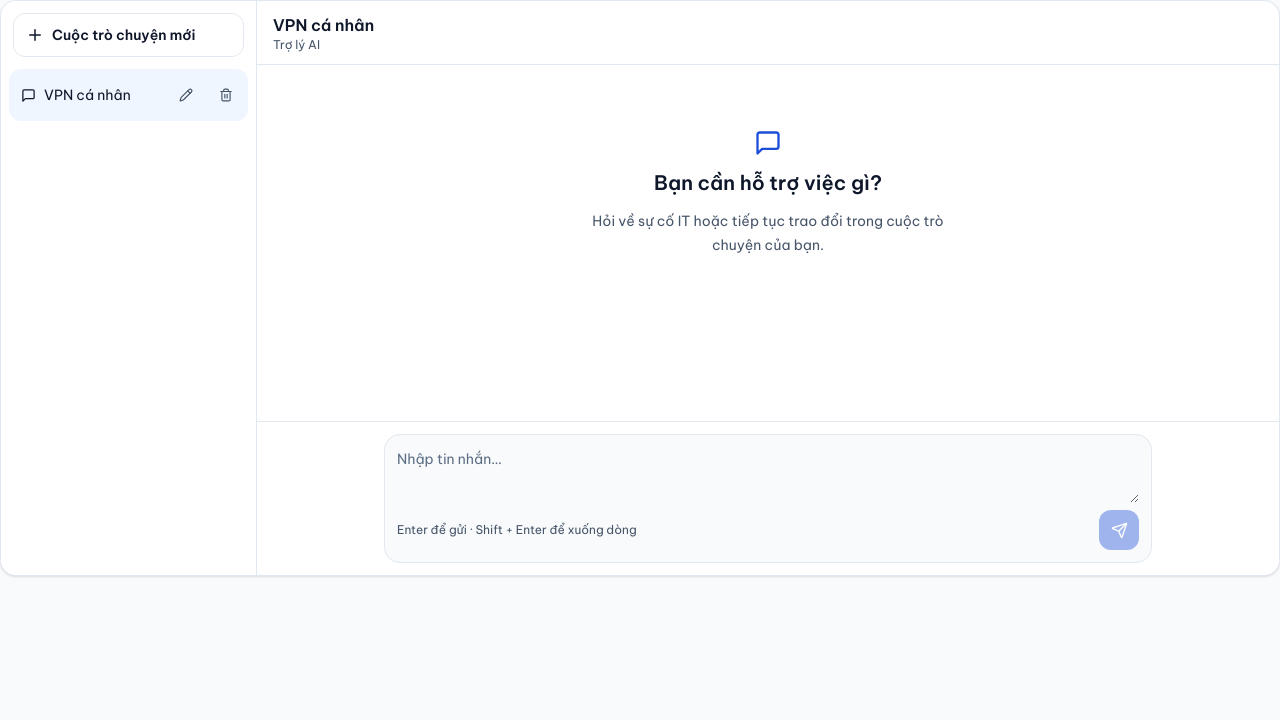
Test: retains explicit human approval for approve=true in a saved conversation
Expected: the button "VPN cá nhân" is shown, [13,73,164,117]
Type "VPN không kết nối." into the text box named "Câu hỏi hỗ trợ IT". click: [768, 475]
box: [397,447,1139,503]
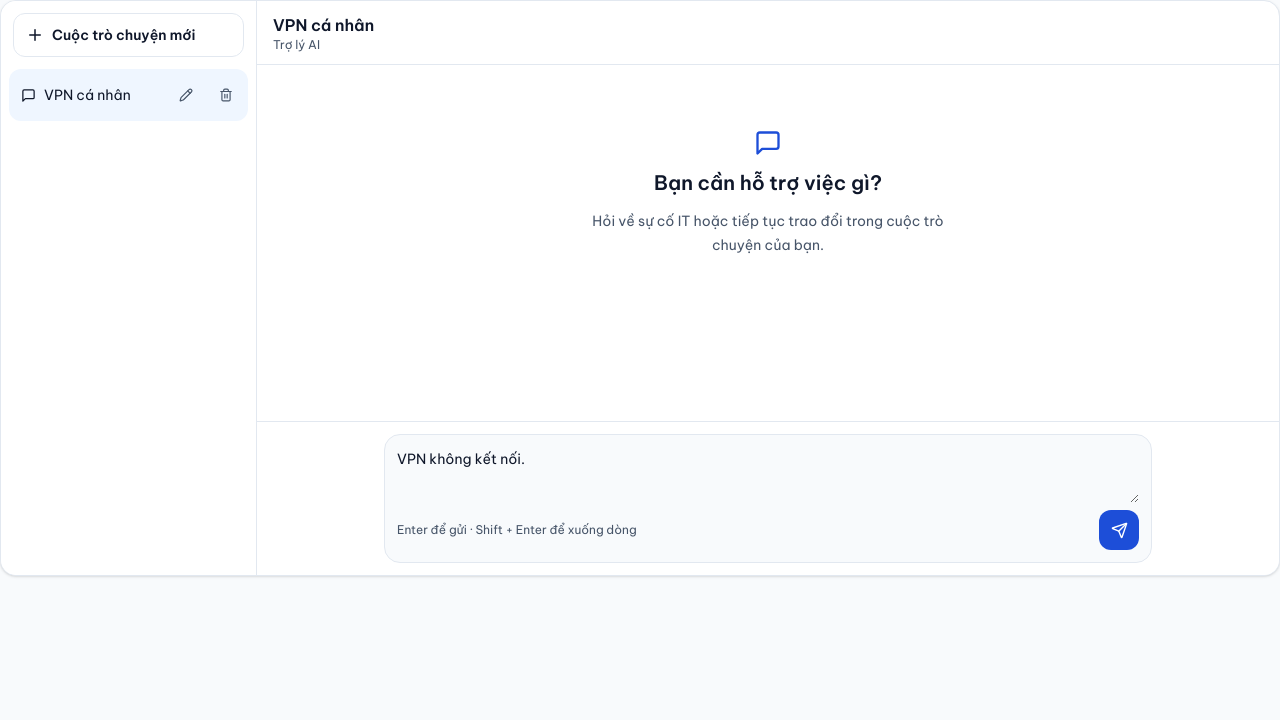
Expected: the button named "Gửi câu hỏi" is enabled
Click the button named "Gửi câu hỏi". click: [1119, 530]
box: [1099,510,1139,550]
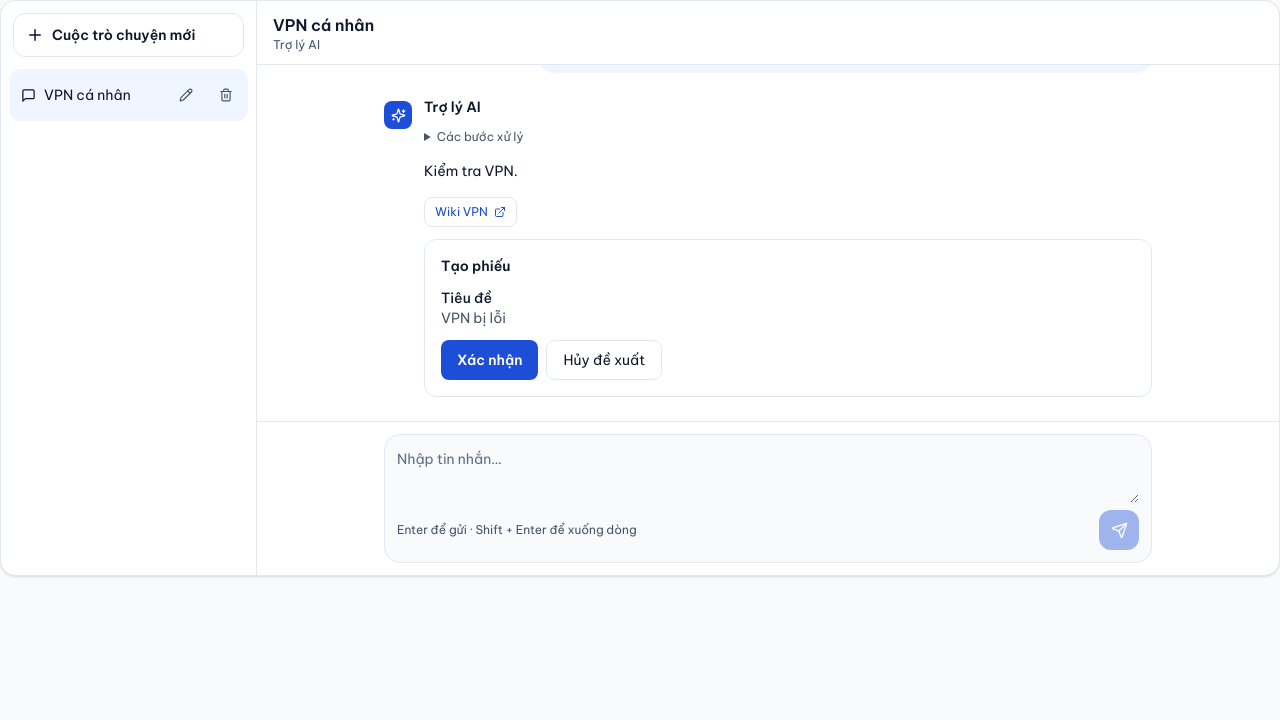
Expected: the text "Kiểm tra VPN." is shown, [424,162,518,180]
Expected: the button "Xác nhận" is enabled
Click the button "Xác nhận". click: [490, 360]
box: [441,340,538,380]
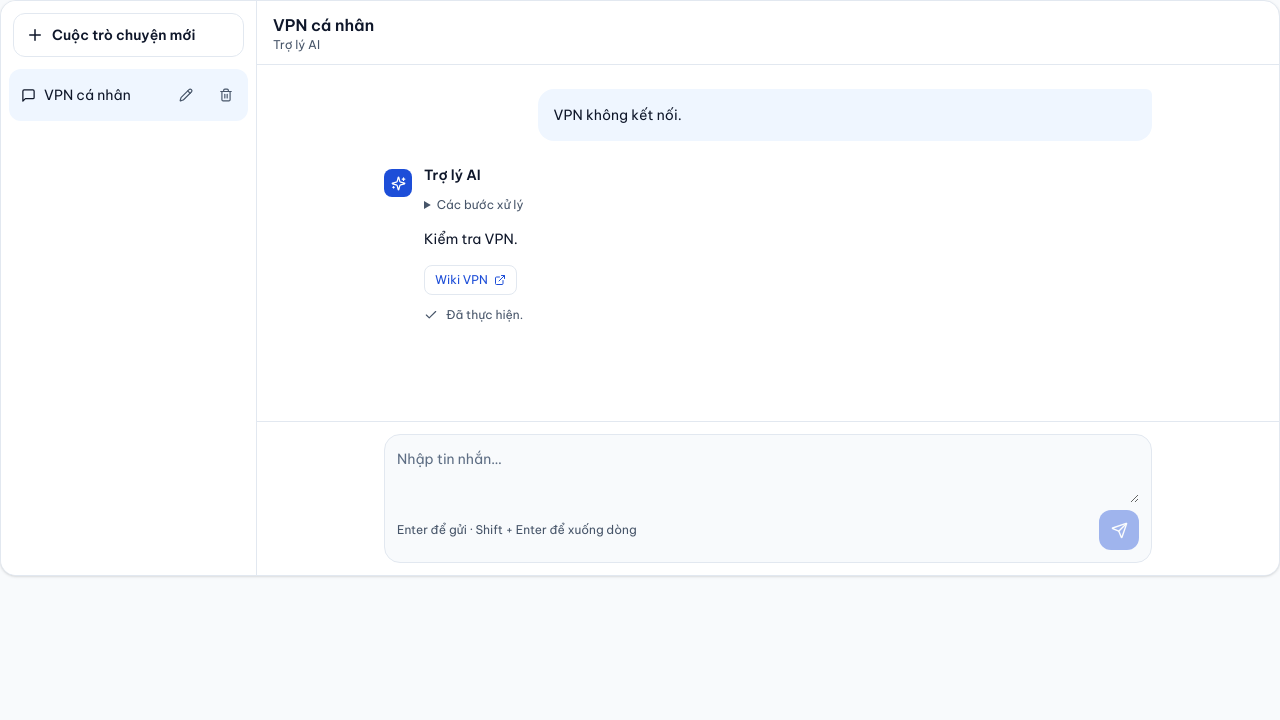
Expected: the text "Đã thực hiện." is shown, [424,307,523,322]
